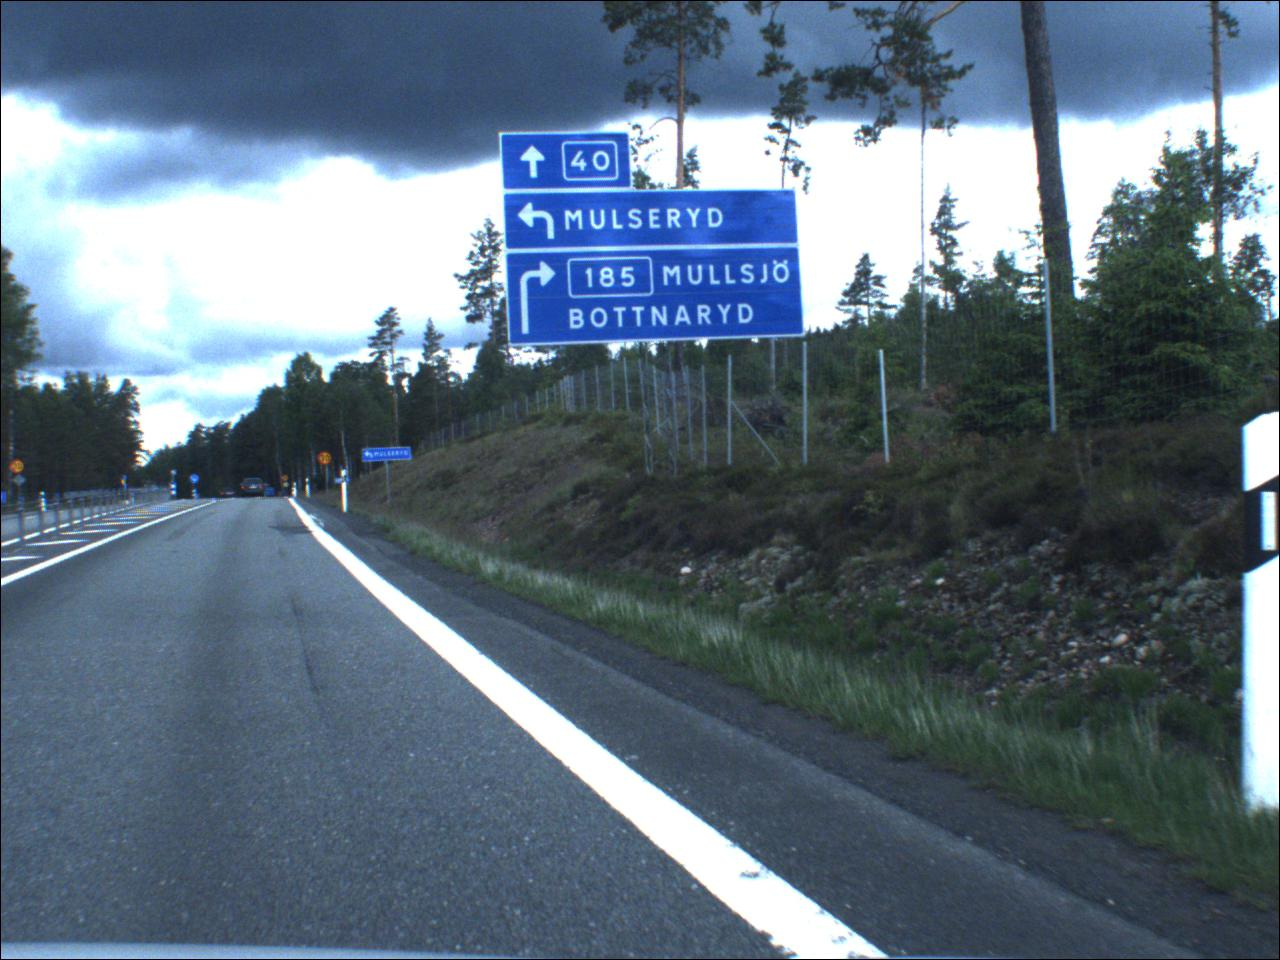70_SIGN: (11, 460, 28, 476), (319, 453, 336, 468), (283, 476, 292, 485)
PASS_RIGHT_SIDE: (191, 475, 203, 487)
PRIORITY_ROAD: (285, 484, 293, 490)
